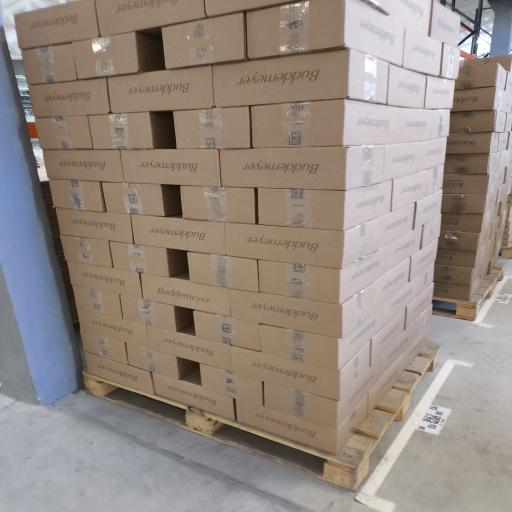pallet: (84, 371, 422, 490), (433, 264, 504, 321), (500, 246, 511, 258)
